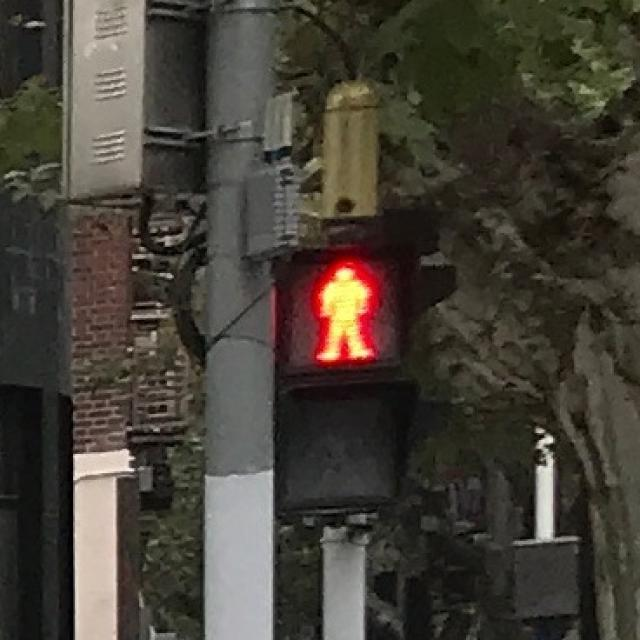red_light: (302, 257, 374, 369)
